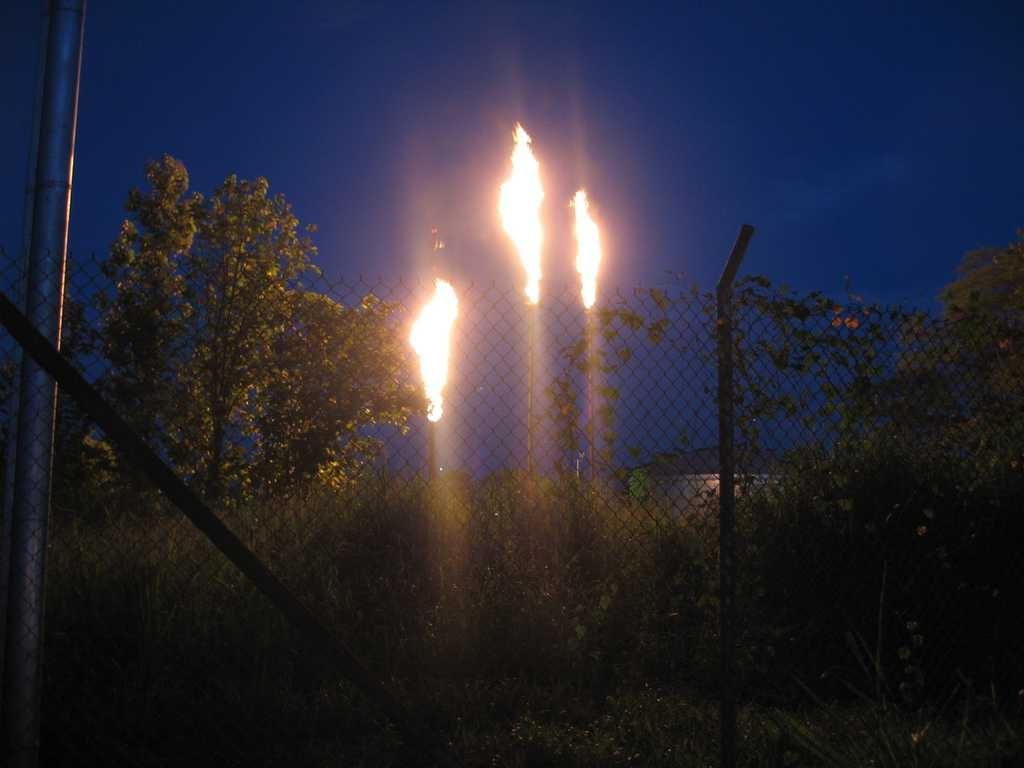fire: (508, 158, 540, 302), (418, 292, 456, 412), (572, 192, 608, 302)
